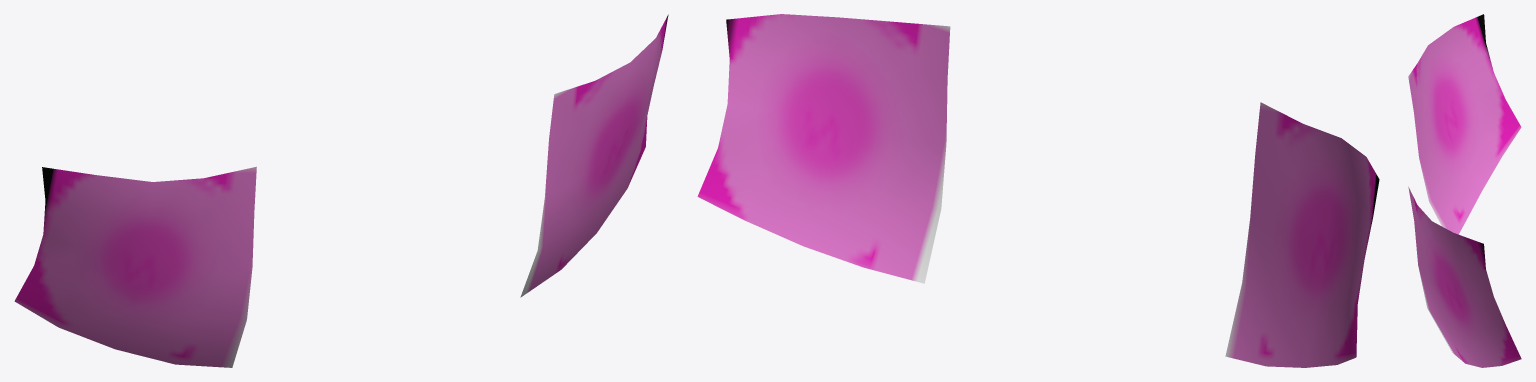
3 views of the same model, side by side, from view 1: azimuth 30°, elevation 25°; view 2: azimuth 150°, elevation 25°; view 3: azimuth 270°, elevation 25° (orthographic). The views are drawn at different scales.
Visible parts, largest first — view 1: polySurface9; view 2: polySurface9; view 3: polySurface9.
Part boxes in pixels (x1,y1,x2,y2): polySurface9: (14,14,668,367); polySurface9: (697,14,1379,367); polySurface9: (1408,14,1521,367).
Bounding box in the file's own units: 0.587 × 0.2019 × 0.1214.
1 material, 1 textured.
